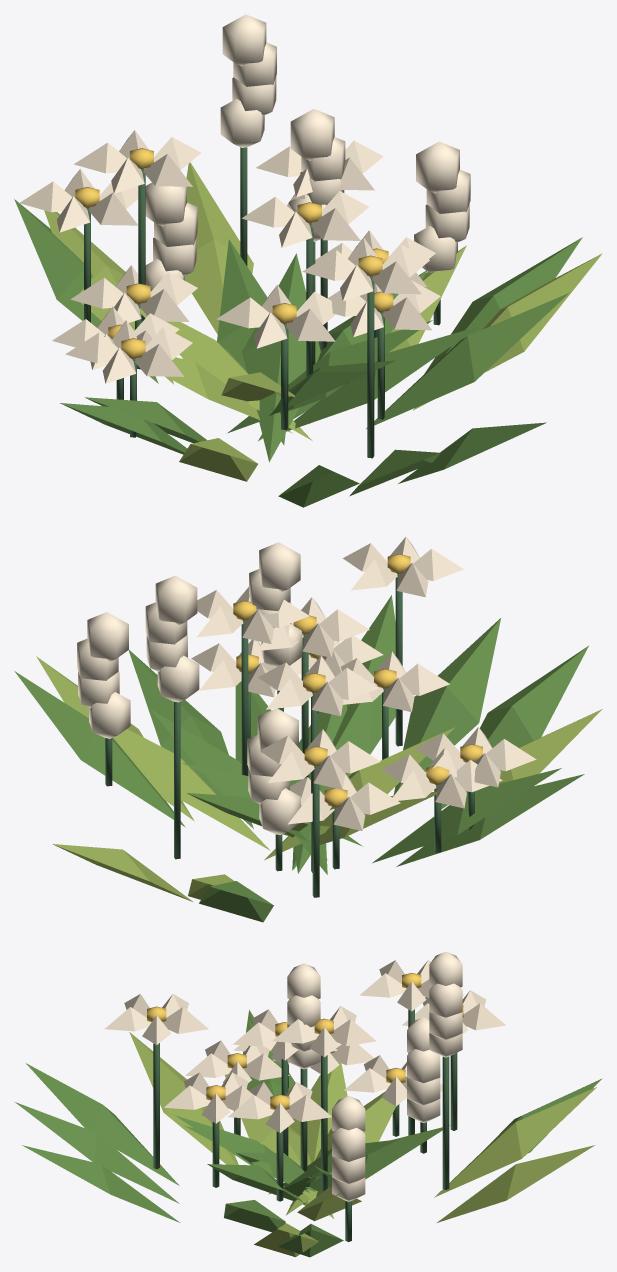
File: bush_flower_white.glb
3 views of the same model, one above another, from view 1: azimuth 30°, elevation 25°; view 2: azimuth 150°, elevation 25°; view 3: azimuth 270°, elevation 25° (orthographic). The views are drawn at different scales.
Visible parts, largest first — view 1: bush_flower_white; view 2: bush_flower_white; view 3: bush_flower_white.
Part boxes in pixels (left/top/right/bottom): bush_flower_white: left=14, top=14, right=602, bottom=507; bush_flower_white: left=14, top=537, right=602, bottom=922; bush_flower_white: left=15, top=951, right=602, bottom=1257.
Size of the model in its own units: 1.42 by 0.8309 by 1.6.
